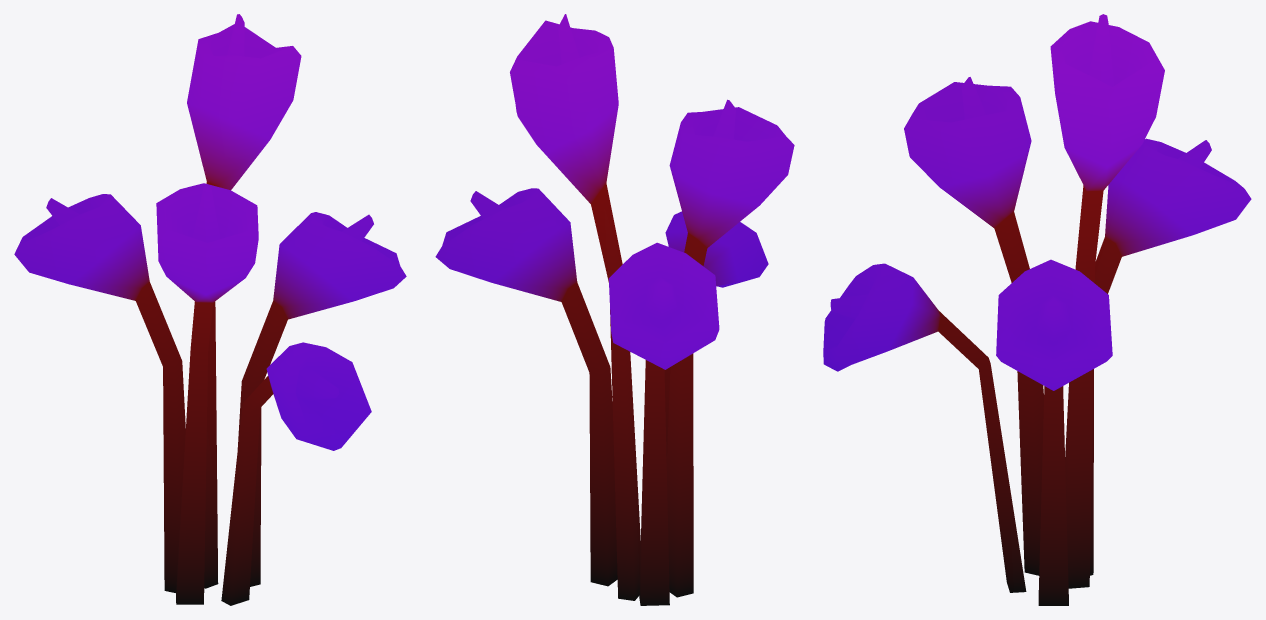
The model's file is SM_Env_Flowers_02.glb.
The picture shows the model from 3 angles, left to right: view 1: azimuth 30°, elevation 25°; view 2: azimuth 150°, elevation 25°; view 3: azimuth 270°, elevation 25°; orthographic projection. The views are drawn at different scales.
Visible parts, largest first — view 1: SM_Env_Flowers_02_LOD0; view 2: SM_Env_Flowers_02_LOD0; view 3: SM_Env_Flowers_02_LOD0.
Boxes of the visible parts, <box> form: SM_Env_Flowers_02_LOD0: <box>14,14,406,605</box>; SM_Env_Flowers_02_LOD0: <box>435,14,794,605</box>; SM_Env_Flowers_02_LOD0: <box>823,14,1251,605</box>.
Size of what is drawn, in the model's own units: 0.7131 by 1.15 by 0.7483.
